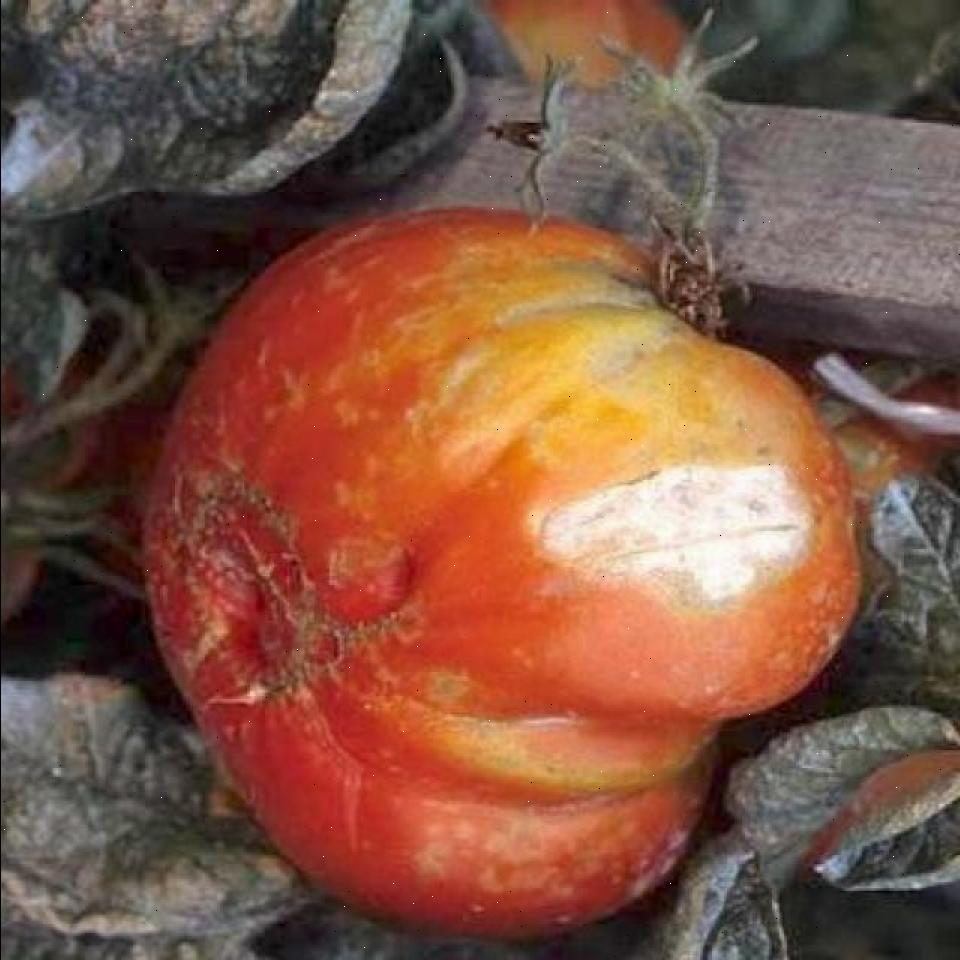Sunscald: (494, 460, 834, 620)
